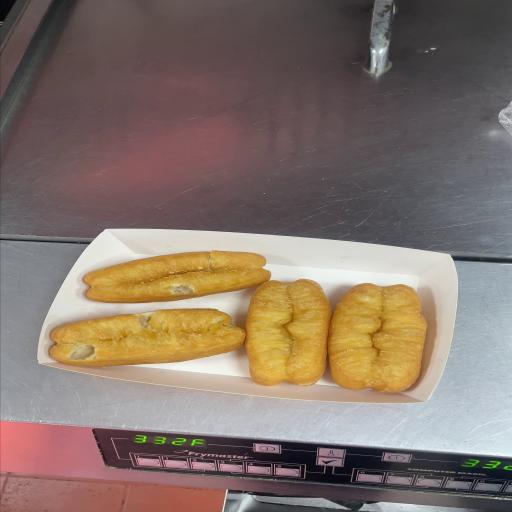brand_golden_defect: (50, 309, 245, 367), (84, 251, 271, 302)
brand_golden_good: (246, 279, 427, 393)
